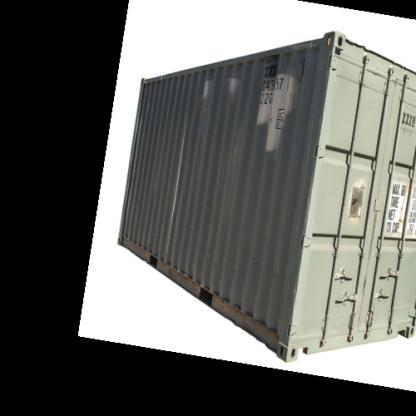Damage: (252, 67, 296, 157), (342, 173, 372, 221), (193, 74, 214, 115), (244, 252, 272, 271), (224, 71, 242, 99), (203, 198, 217, 212)
